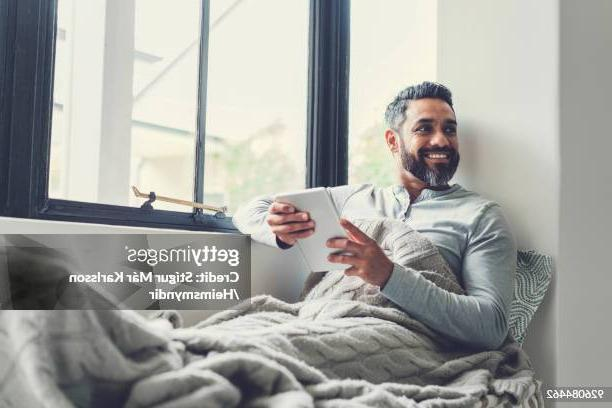blanket: (0, 216, 540, 408)
long sleeve shirt: (231, 180, 518, 352)
